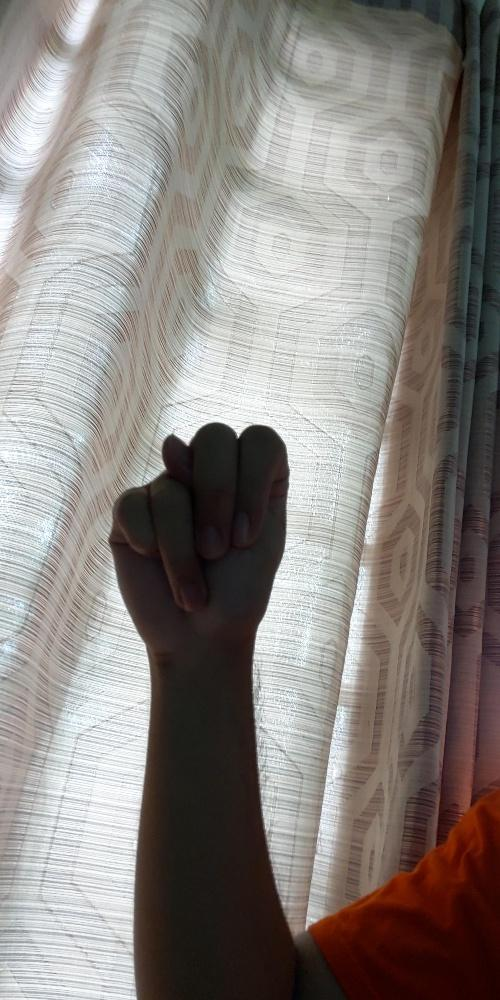n: (107, 417, 290, 662)
